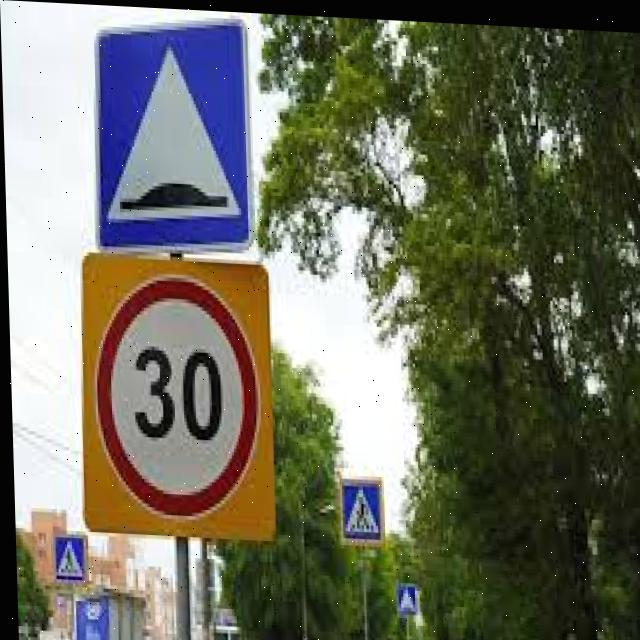Speed limit 30: (74, 245, 276, 543)
